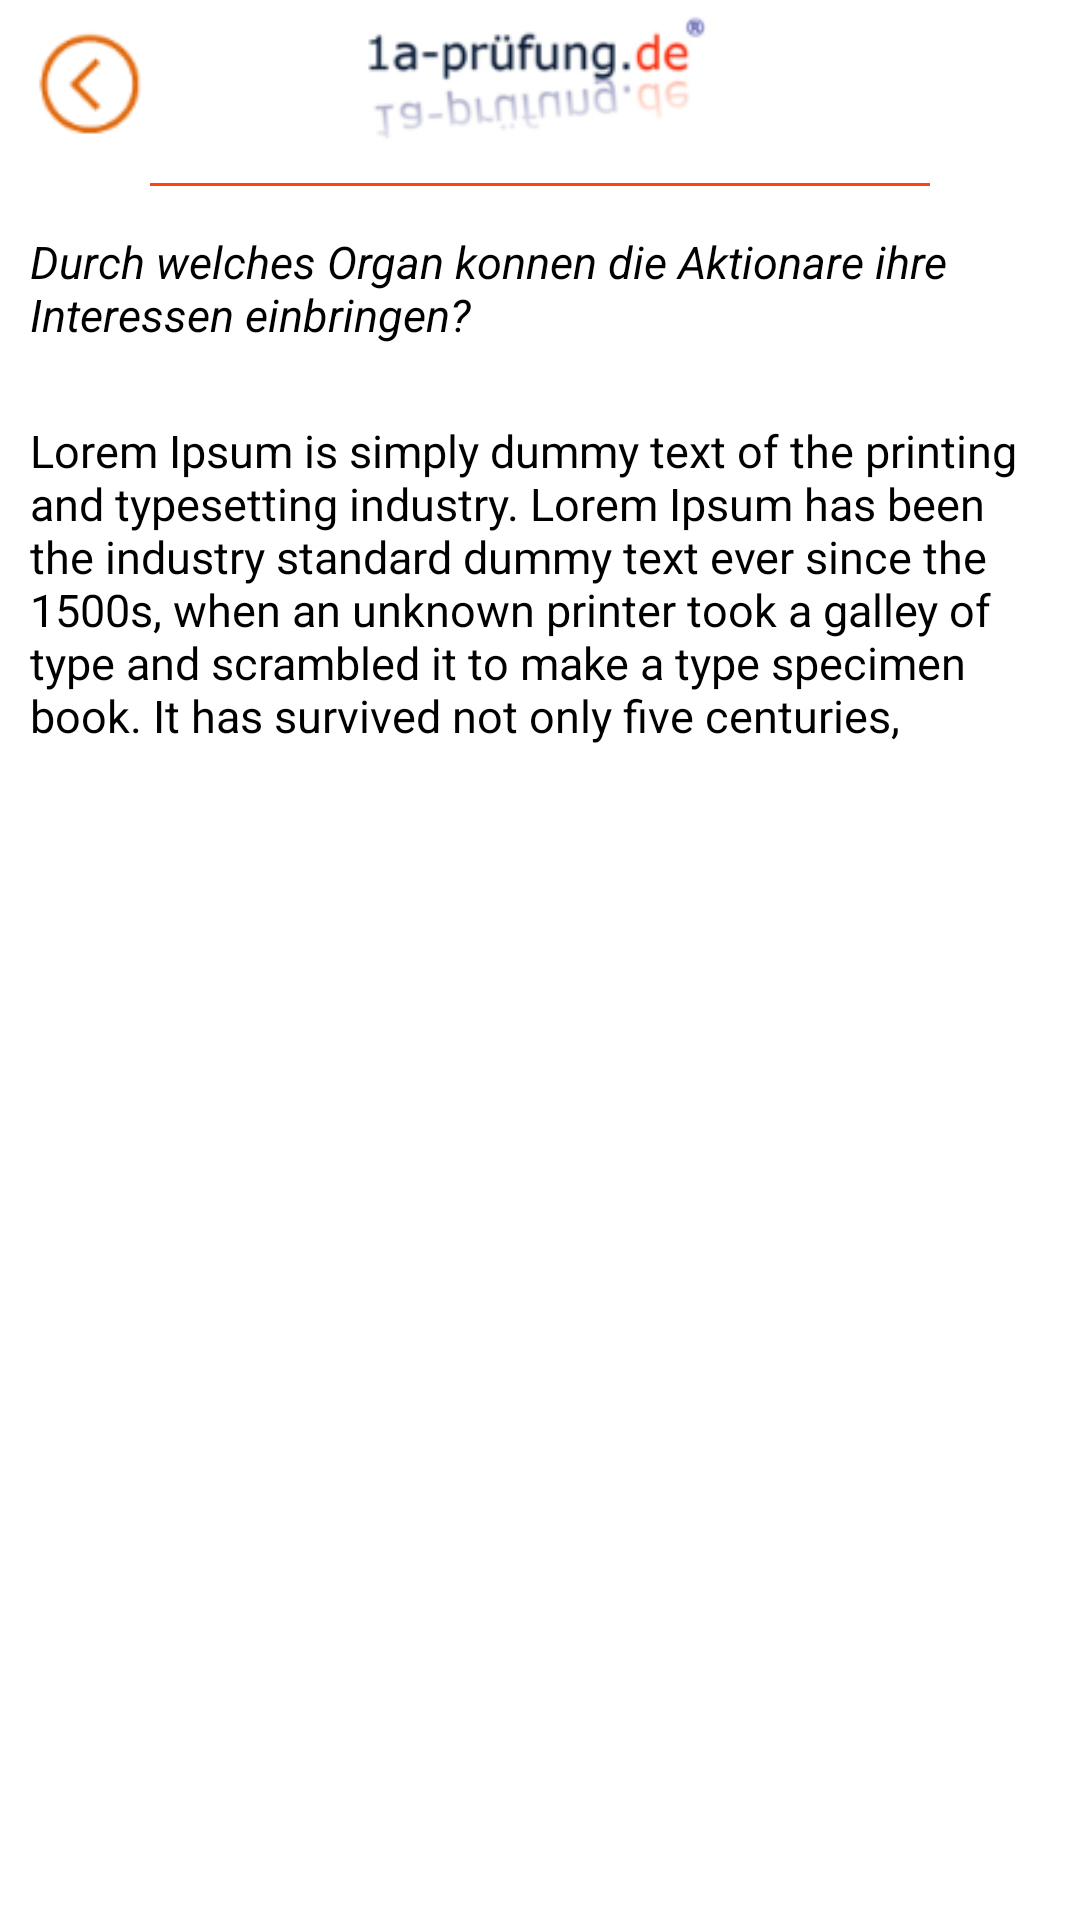

Screen size 1080px x 1920px. Icon name, then its center in pixels as (x,y):
back: (90,84)
